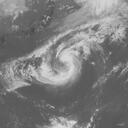cyclone: (32, 46, 82, 87)
